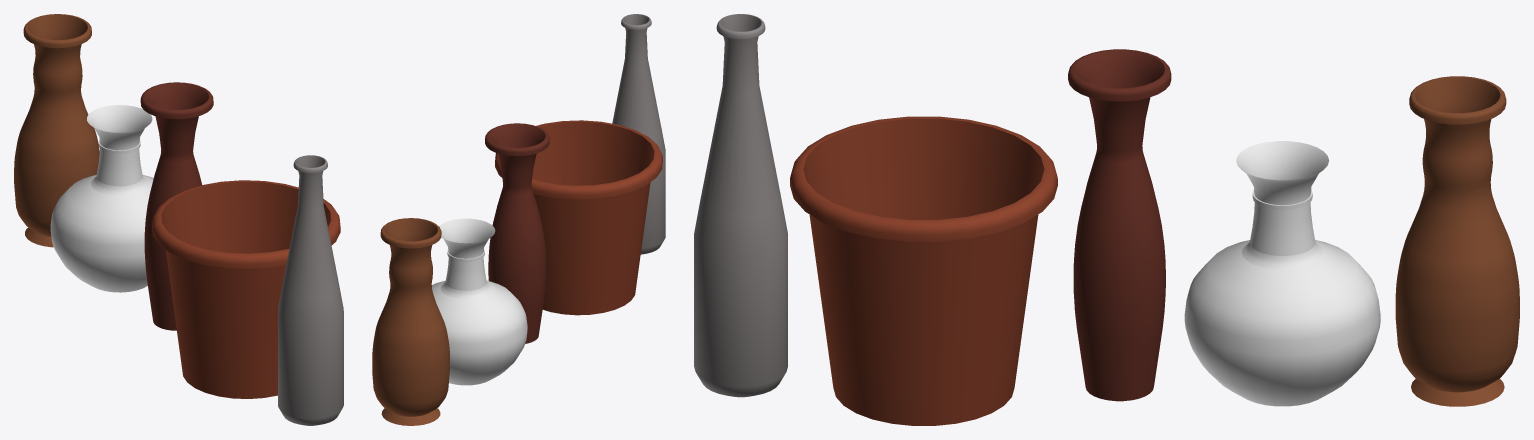
The model's file is vase.glb.
The picture shows the model from 3 angles, left to right: view 1: azimuth 30°, elevation 25°; view 2: azimuth 150°, elevation 25°; view 3: azimuth 270°, elevation 25°; orthographic projection. The views are drawn at different scales.
Visible parts, largest first — view 1: Cylinder.001, Cylinder, Cylinder.003, Cylinder.004, Cylinder.002; view 2: Cylinder.001, Cylinder.004, Cylinder.003, Cylinder.002, Cylinder; view 3: Cylinder.001, Cylinder.003, Cylinder.004, Cylinder, Cylinder.002.
Boxes of the visible parts, <box> form: Cylinder.001: <box>152,180,340,398</box>; Cylinder: <box>278,155,343,425</box>; Cylinder.003: <box>50,105,153,292</box>; Cylinder.004: <box>14,14,99,247</box>; Cylinder.002: <box>140,82,213,330</box>; Cylinder.001: <box>495,120,662,315</box>; Cylinder.004: <box>372,218,449,425</box>; Cylinder.003: <box>432,218,527,385</box>; Cylinder.002: <box>485,123,549,343</box>; Cylinder: <box>612,14,665,254</box>; Cylinder.001: <box>790,116,1057,425</box>; Cylinder.003: <box>1184,141,1380,406</box>; Cylinder.004: <box>1395,76,1519,406</box>; Cylinder: <box>694,14,787,397</box>; Cylinder.002: <box>1068,49,1171,401</box>.
Bounding box in the file's own units: 3.92 × 5.93 × 12.16.
